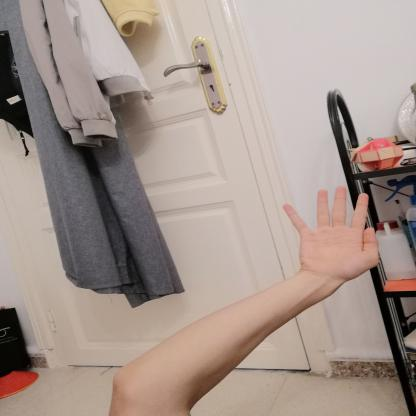SHEEN: (272, 182, 387, 286)
